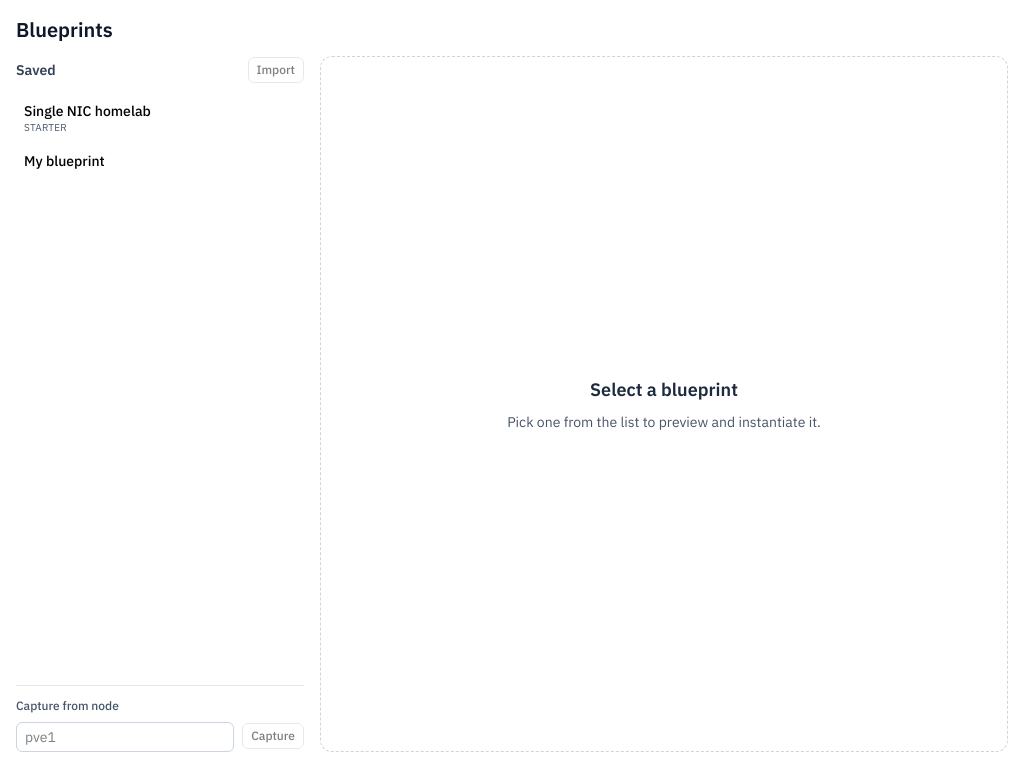
Test case: BlueprintsPage read-only gating › disables Import/Capture/Delete/Instantiate for a netWrite-less session
This screenshot has width=1024, height=768.
Expected: the button "Import" is disabled, [248,57,304,83]
Expected: the button "Capture" is disabled, [242,723,304,749]
Click the button "My blueprint" at (64, 161), box [16,145,304,177]
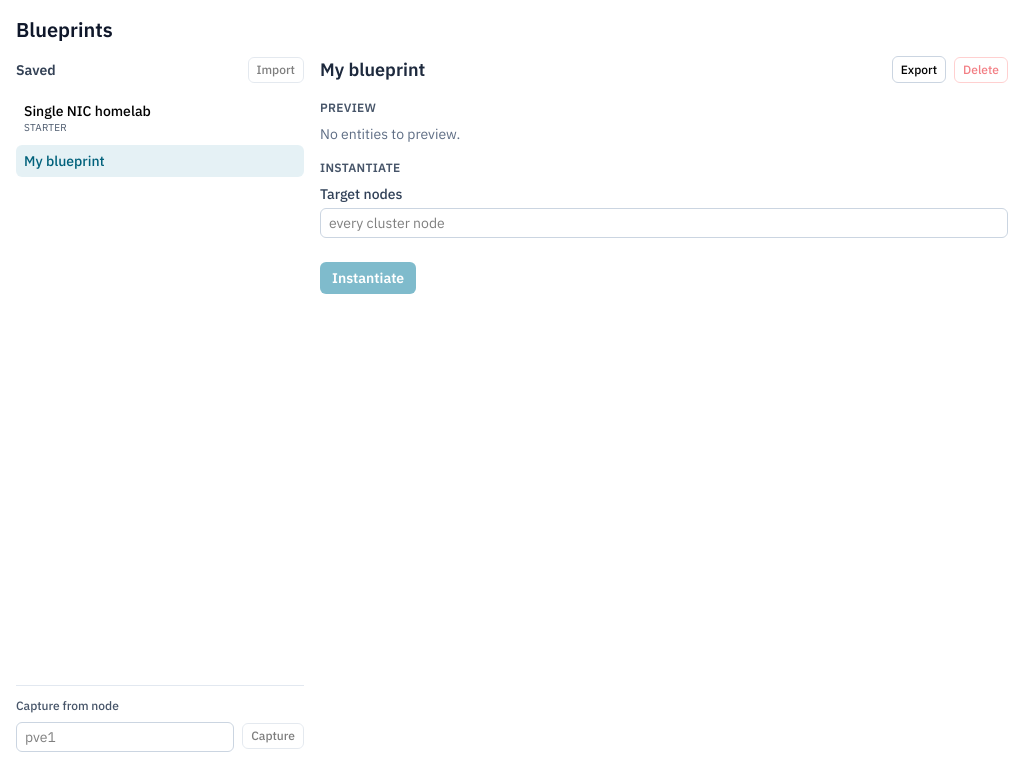
Expected: the button "Delete" is disabled, [954,57,1008,83]
Expected: the button "Instantiate" is disabled, [320,262,416,294]
